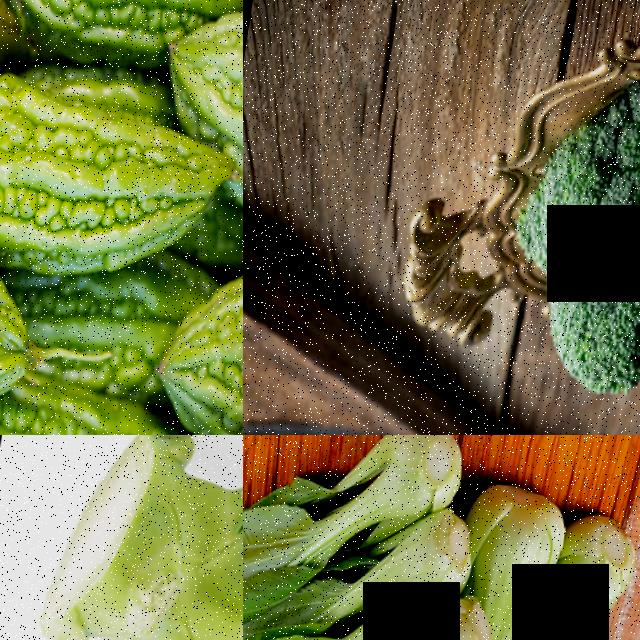bitter gourd: (0, 72, 243, 259), (162, 278, 243, 435), (33, 0, 186, 52)
bok choy: (243, 435, 436, 590), (249, 566, 460, 640), (486, 479, 561, 640), (555, 516, 640, 640)
broccoli: (0, 435, 243, 640), (520, 57, 640, 399)
